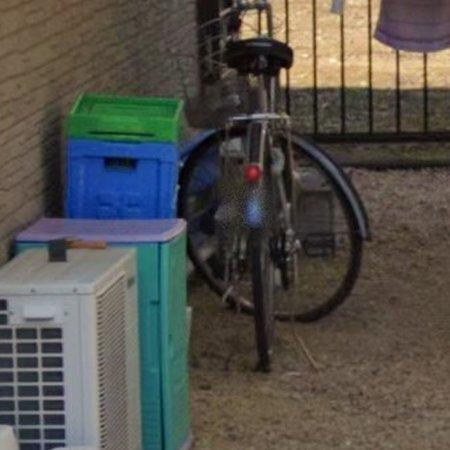bicycles: (180, 0, 370, 372)
